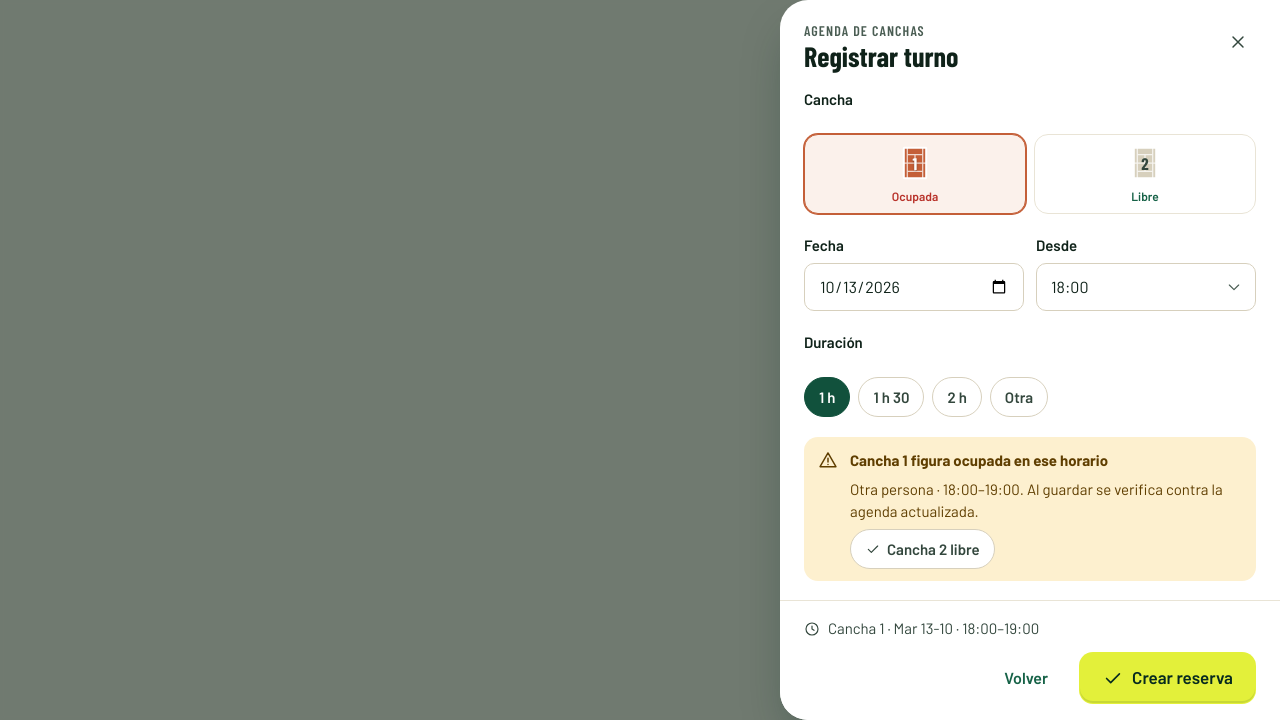
ReservationForm · prechequeo informativo › avisa que la cancha figura ocupada y sugiere una libre, sin impedir que el servidor decida al guardar
The image size is (1280, 720).
Expected: the text "Cancha 1 figura ocupada en ese horario" is shown, x1=850 y1=451 x2=1108 y2=469
Expected: the button "Cancha 2 libre" is shown, x1=850 y1=529 x2=995 y2=569
Click the button "Crear reserva": coordinates (1168, 678) x1=1079 y1=652 x2=1256 y2=704
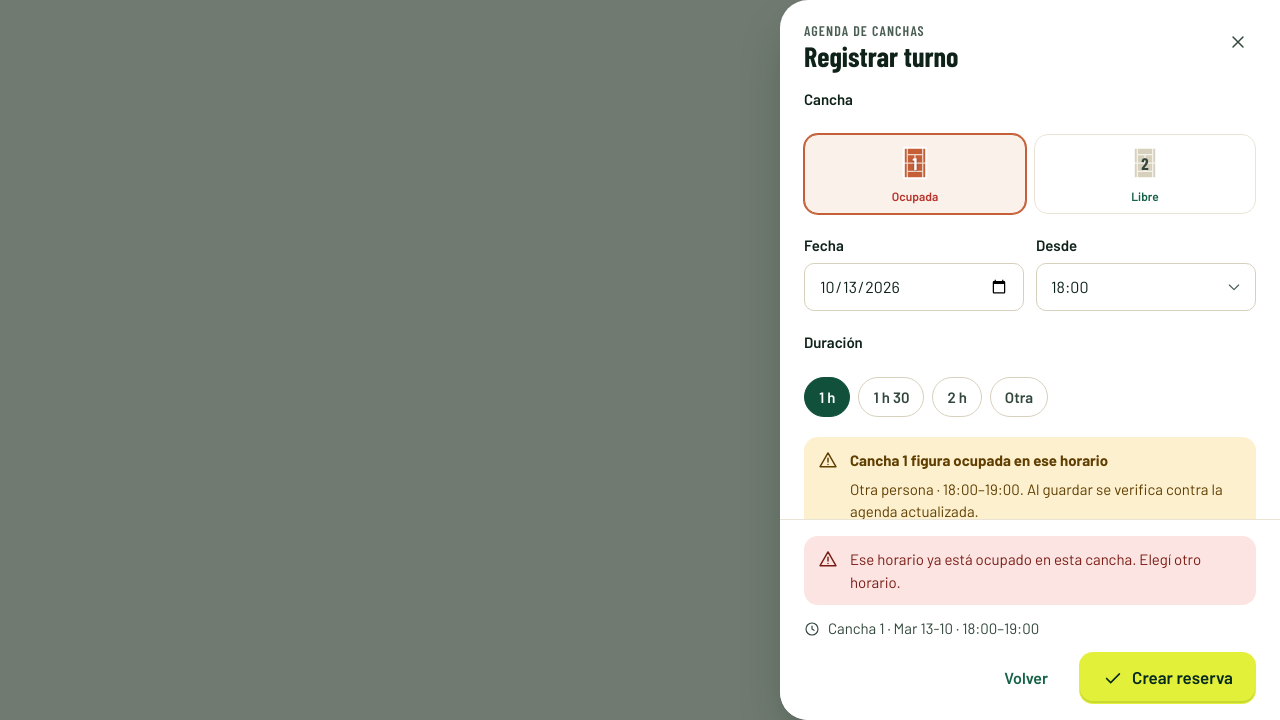
Now the message "Ese horario ya está ocupado en esta cancha. Elegí otro horario." is shown, box x1=804 y1=536 x2=1256 y2=606
